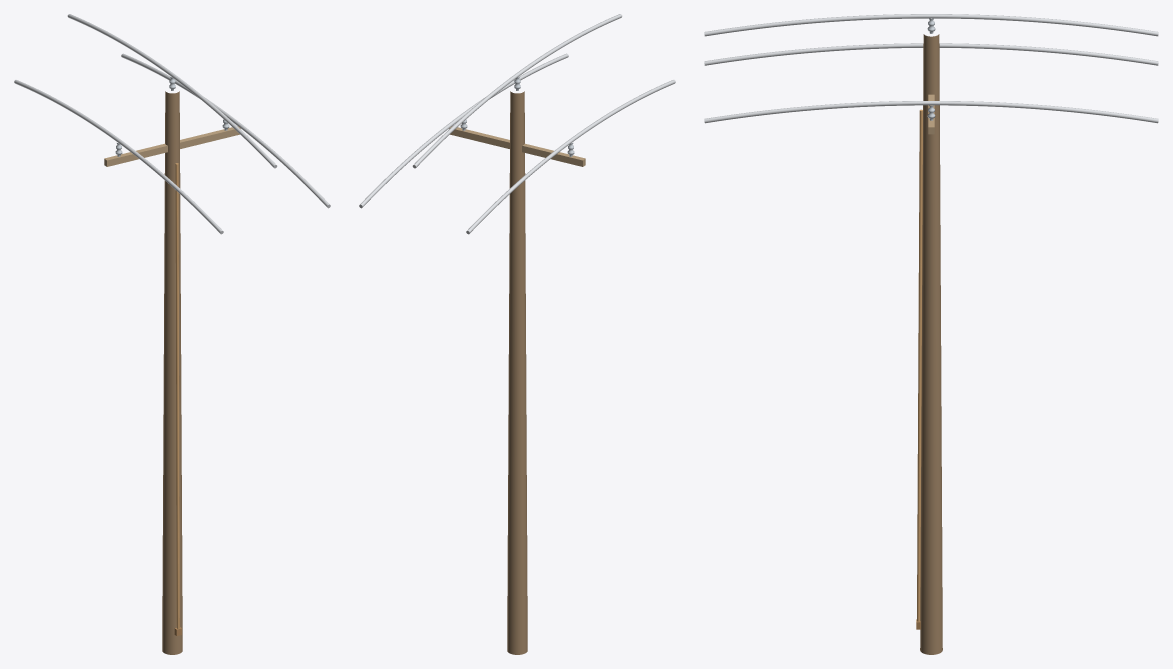
File: test-pole.glb
3 renders of one model, left to right at view 1: azimuth 30°, elevation 25°; view 2: azimuth 150°, elevation 25°; view 3: azimuth 270°, elevation 25°, orthographic. The views are drawn at different scales.
Parts seen in each view (by area): view 1: Pole, GroundLead, PhaseB_Conductor, PhaseA_Conductor, Crossarm1, PhaseC_Conductor; view 2: Pole, PhaseB_Conductor, PhaseA_Conductor, Crossarm1, PhaseC_Conductor; view 3: Pole, PhaseB_Conductor, PhaseC_Conductor, PhaseA_Conductor, GroundLead.
Part boxes in pixels (left/top/right/bottom): Pole: left=162, top=91, right=182, bottom=654; GroundLead: left=175, top=163, right=179, bottom=628; PhaseB_Conductor: left=67, top=14, right=277, bottom=168; PhaseA_Conductor: left=14, top=80, right=223, bottom=234; Crossarm1: left=104, top=126, right=240, bottom=166; PhaseC_Conductor: left=121, top=53, right=330, bottom=208; Pole: left=507, top=91, right=527, bottom=654; PhaseB_Conductor: left=412, top=14, right=622, bottom=168; PhaseA_Conductor: left=466, top=80, right=675, bottom=234; Crossarm1: left=449, top=126, right=585, bottom=166; PhaseC_Conductor: left=359, top=53, right=568, bottom=208; Pole: left=920, top=34, right=942, bottom=654; PhaseB_Conductor: left=704, top=14, right=1158, bottom=36; PhaseC_Conductor: left=704, top=101, right=1158, bottom=123; PhaseA_Conductor: left=704, top=43, right=1158, bottom=65; GroundLead: left=917, top=109, right=922, bottom=621.
Bounding box in the file's own units: 3 × 12.37 × 8.01.
